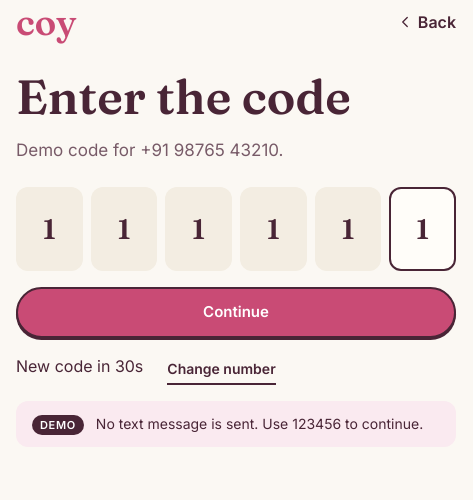
Test: LoginPage › rejects a wrong code with a clear message
The image size is (473, 500).
Earlier steps of the test are not shown.
Click the button "Continue". click: {"x": 236, "y": 312}
box: [16, 287, 456, 338]
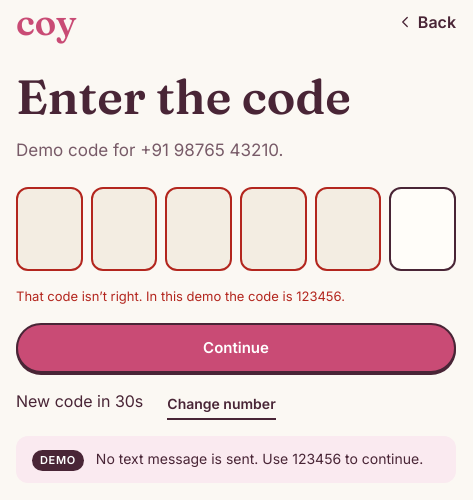
Expected: the message shows "123456", [16, 288, 345, 304]
